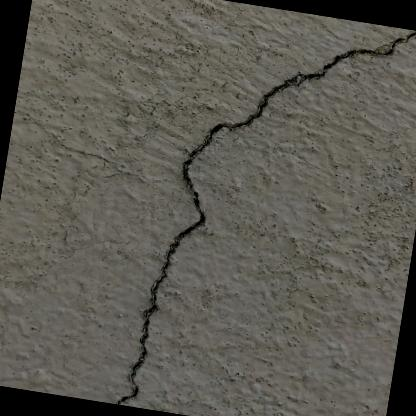crack: (114, 30, 416, 405)
